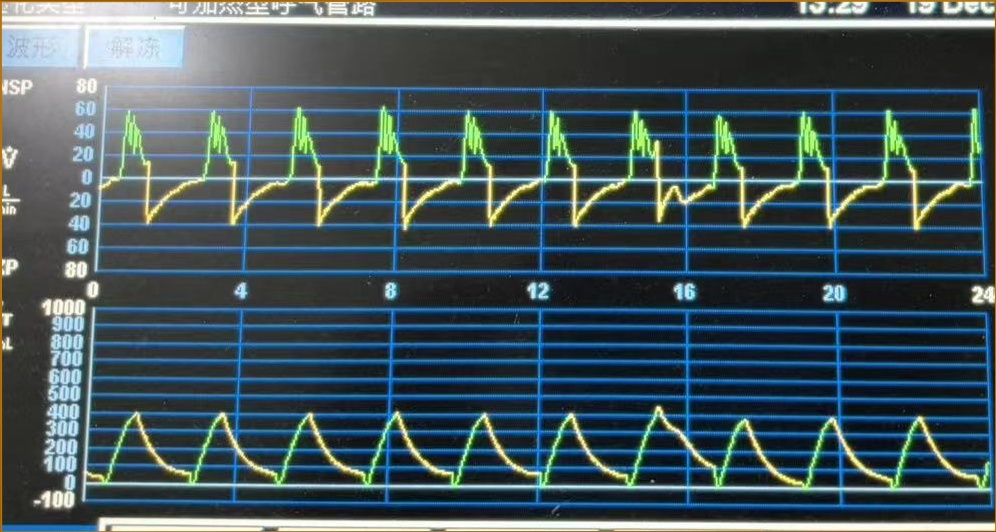Accumulation Flow: (103, 85, 982, 270)
Volume: (93, 326, 987, 504)
